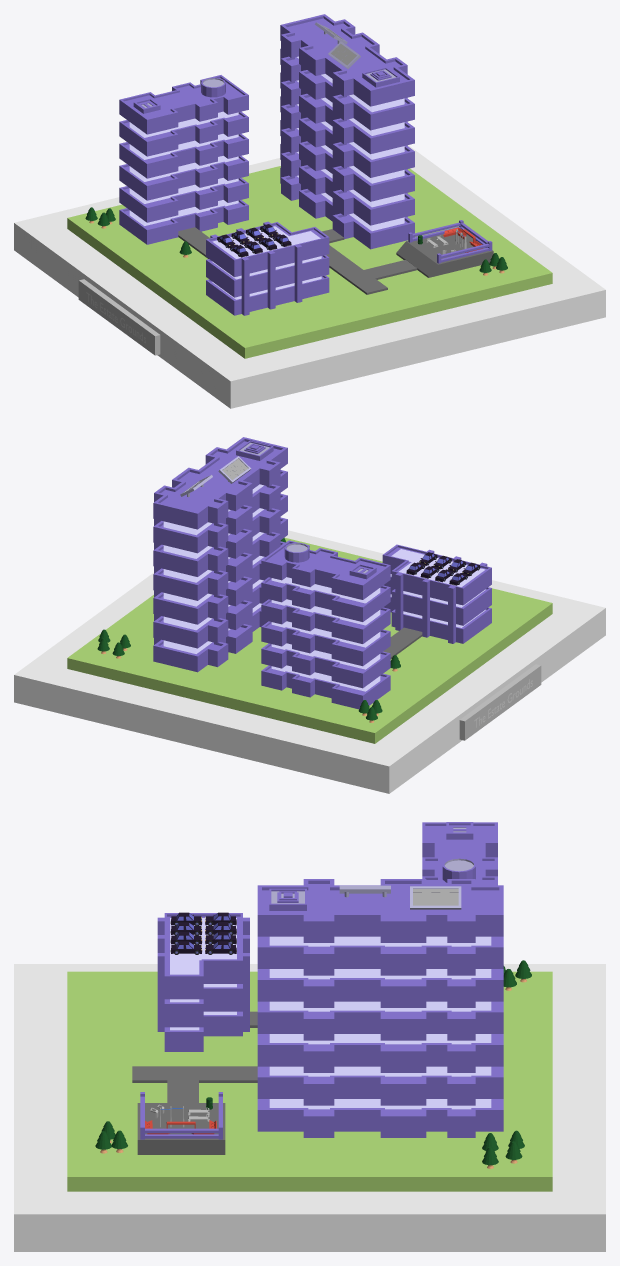
File: city_scape_low_poly.gltf
3 renders of one model, top to bottom at view 1: azimuth 30°, elevation 25°; view 2: azimuth 150°, elevation 25°; view 3: azimuth 270°, elevation 25°, orthographic. The views are drawn at different scales.
Parts seen in each view (by area): view 1: Floor, HDB2, HDB1, Carpark, Pathway, slope, Label, fence, Car.002, Car.003; view 2: Floor, HDB2, HDB1, Carpark, Label, Car.003, Car.002, Pathway; view 3: Floor, HDB2, Carpark, HDB1, slope, Pathway, fence, Car.002, Car.003.
Part boxes in pixels (left/top/right/bottom): Floor: left=14, top=145, right=605, bottom=408; HDB2: left=280, top=14, right=414, bottom=249; HDB1: left=119, top=75, right=248, bottom=244; Carpark: left=206, top=221, right=329, bottom=315; Pathway: left=178, top=227, right=417, bottom=294; slope: left=396, top=234, right=493, bottom=277; Label: left=78, top=279, right=160, bottom=355; fence: left=408, top=220, right=492, bottom=263; Car.002: left=230, top=234, right=291, bottom=257; Car.003: left=217, top=224, right=278, bottom=248; Floor: left=14, top=530, right=605, bottom=793; HDB2: left=153, top=437, right=287, bottom=672; HDB1: left=261, top=540, right=390, bottom=709; Carpark: left=382, top=544, right=491, bottom=643; Label: left=459, top=664, right=541, bottom=740; Car.003: left=406, top=562, right=467, bottom=585; Car.002: left=419, top=552, right=480, bottom=576; Pathway: left=383, top=627, right=422, bottom=658; Floor: left=14, top=964, right=605, bottom=1251; HDB2: left=257, top=879, right=503, bottom=1137; Carpark: left=157, top=913, right=249, bottom=1051; HDB1: left=422, top=822, right=497, bottom=885; slope: left=137, top=1103, right=225, bottom=1154; Pathway: left=132, top=1011, right=257, bottom=1102; fence: left=140, top=1092, right=222, bottom=1139; Car.002: left=170, top=912, right=202, bottom=954; Car.003: left=205, top=912, right=236, bottom=954.
Size of the model in its own units: 12.01 by 6.19 by 11.8.
